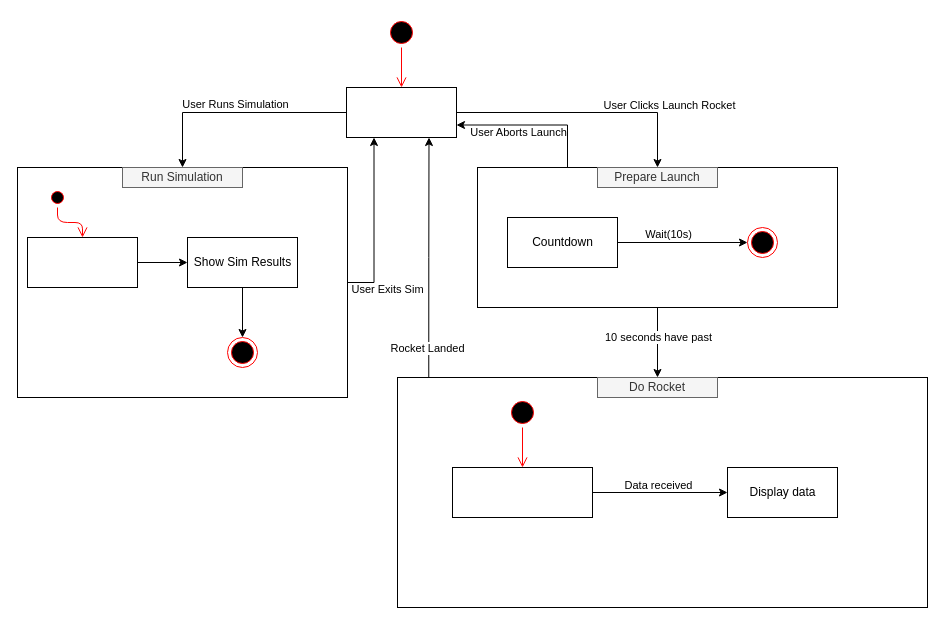
The diagram is 945 pixels wide and 625 high, and some of its shapes have lost their labels. Each missing label, with the box of its shape:
Idle: (346, 86, 456, 138)
Receive data from rocket: (452, 466, 592, 518)
Receive Sim Data: (26, 236, 138, 288)
